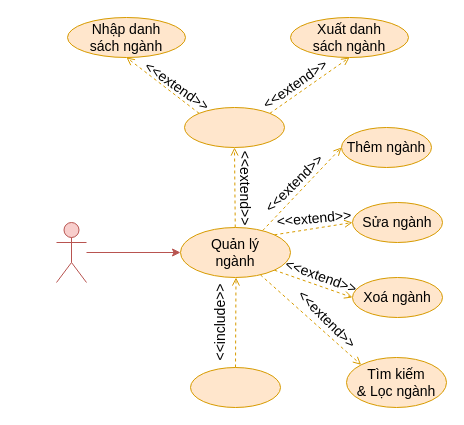
Image size: 464x425. Some labels were removed from this diagram. The shapes that lost their labels are listed below. From the top down, each one's box as (x1, y1, x2, y2) in pixels, then its label:
(184, 106, 284, 148): Nhập/Xuất
(56, 222, 86, 282): Quản trị hệ thống
(190, 366, 280, 408): Đăng nhập
